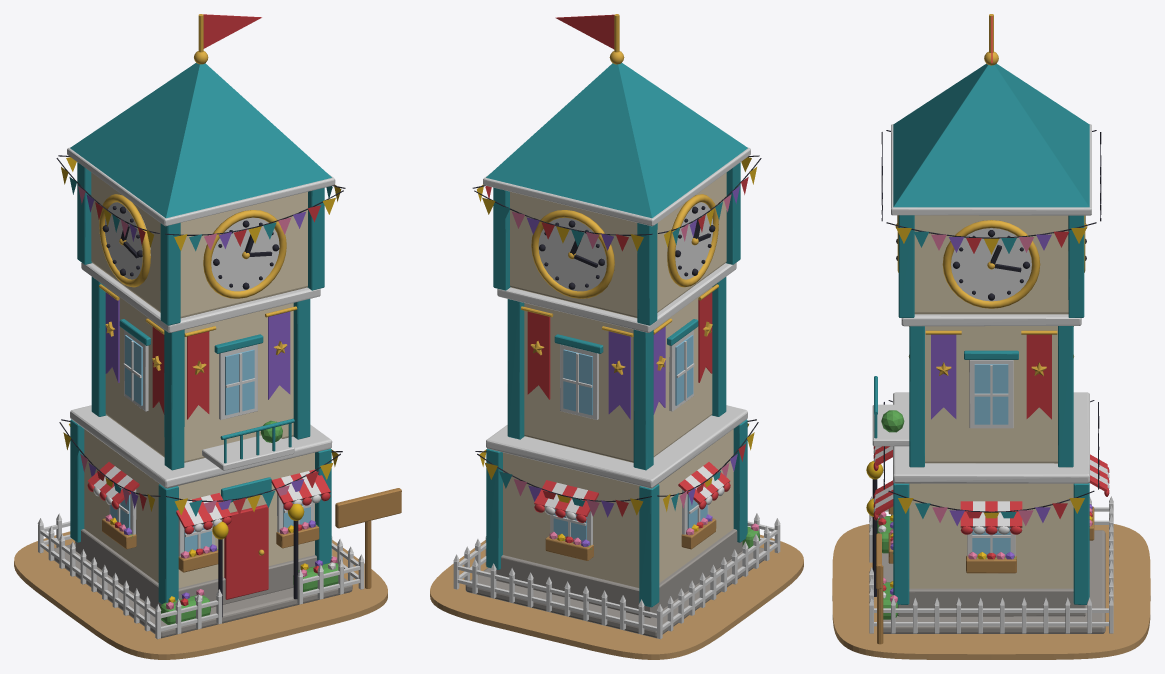
Rendered from clock-tower-stage-5-merged.fd17e69b.glb.
3 renders of one model, left to right at view 1: azimuth 30°, elevation 25°; view 2: azimuth 150°, elevation 25°; view 3: azimuth 270°, elevation 25°, orthographic. The views are drawn at different scales.
Parts seen in each view (by area): view 1: ClockTower_Stage5__T_vcol; view 2: ClockTower_Stage5__T_vcol; view 3: ClockTower_Stage5__T_vcol.
Part boxes in pixels (x1=…): ClockTower_Stage5__T_vcol: x1=14, y1=14, x2=401, y2=659; ClockTower_Stage5__T_vcol: x1=430, y1=14, x2=803, y2=659; ClockTower_Stage5__T_vcol: x1=832, y1=14, x2=1150, y2=659.
Size of the model in its own units: 4.97 by 9.62 by 4.8.
